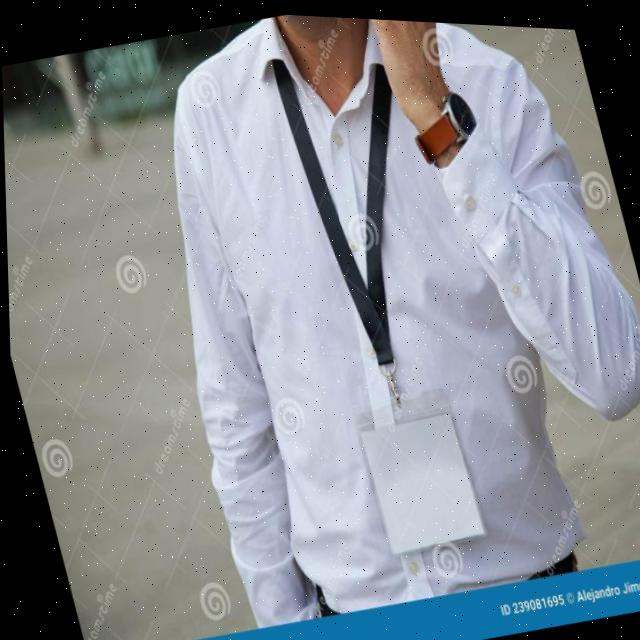id_card: (259, 21, 495, 561)
